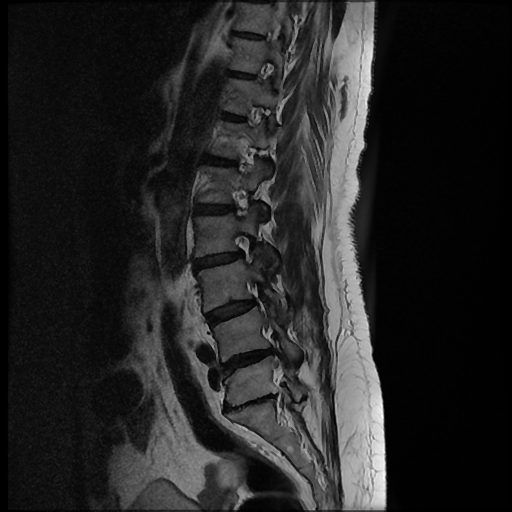LFS0: (226, 226, 264, 271), (224, 180, 259, 224)
